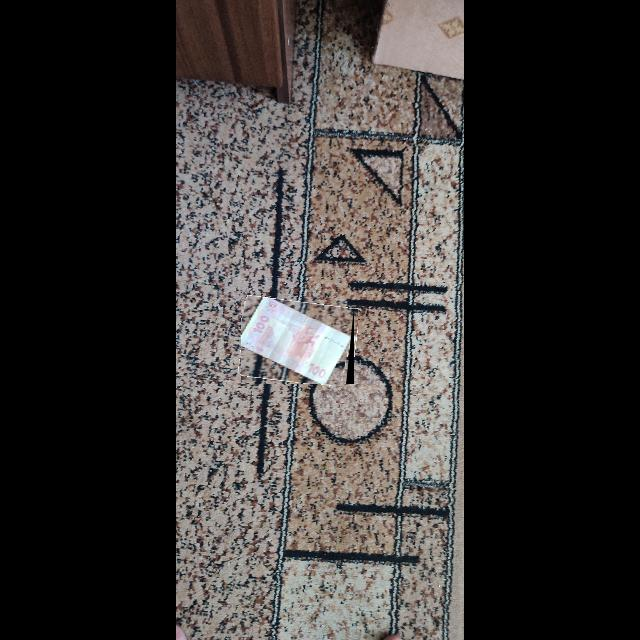100uah: (241, 297, 352, 385)
